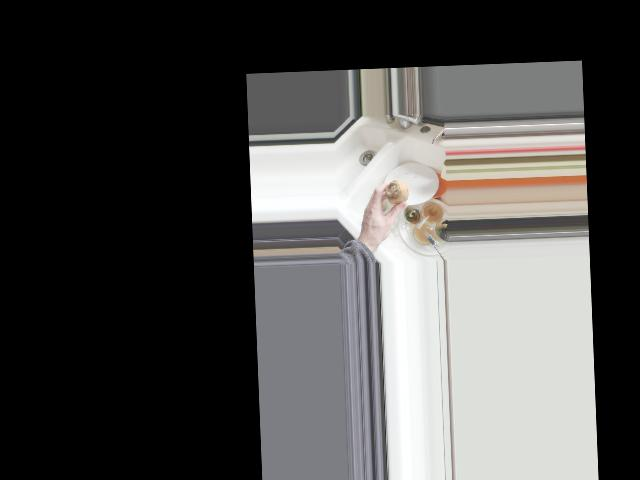sweet_potato: (383, 178, 410, 210)
